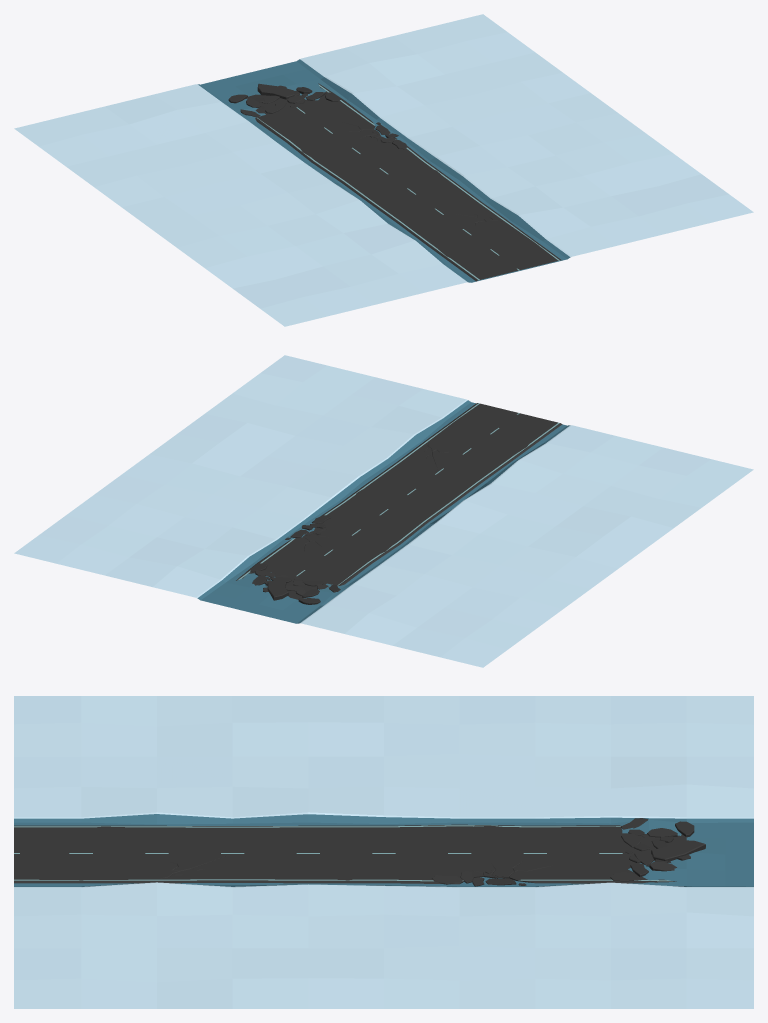
Rendered from model_road_snow_straight_03.fbx.
3 views of the same model, one above another, from view 1: azimuth 30°, elevation 25°; view 2: azimuth 150°, elevation 25°; view 3: azimuth 270°, elevation 25° (orthographic). The views are drawn at different scales.
Parts seen in each view (by area): view 1: model_road_snow_straight_03; view 2: model_road_snow_straight_03; view 3: model_road_snow_straight_03.
Part boxes in pixels (x1,y1,x2,y2): model_road_snow_straight_03: (14, 14, 753, 326); model_road_snow_straight_03: (14, 355, 753, 667); model_road_snow_straight_03: (14, 696, 753, 1008).
Bounding box in the file's own units: 6000 × 72.76 × 6000.
1 material, 1 textured.
